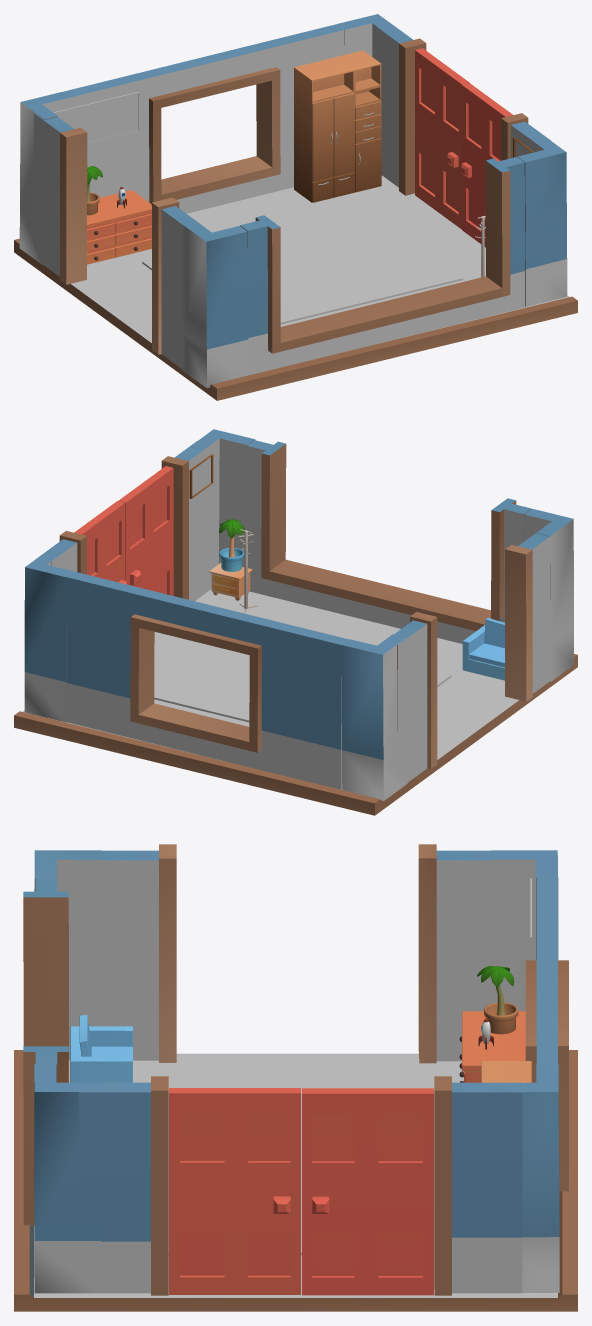
The model's file is ENTRADA.fbx.
The picture shows the model from 3 angles, top to bottom: view 1: azimuth 30°, elevation 25°; view 2: azimuth 150°, elevation 25°; view 3: azimuth 270°, elevation 25°; orthographic projection. The views are drawn at different scales.
Parts seen in each view (by area): view 1: suelo8, paret_ventana8, paret_con_ventana_grande23, fombra10, armario3, paret_esquina_72, paret_con_borde16, puerta_dob_4, paret_esquina32, paret_doblepuerta3, paret_con_borde15, puerta_dob__3 (+4 smaller); view 2: paret_ventana8, suelo8, paret_con_ventana_grande23, paret_esquina_86, paret_con_borde15, paret_esquina33, paret_doblepuerta3, paret_con_borde16, fombra10, puerta_dob__3, paret_esquina_72, paret_esquina32 (+5 smaller); view 3: paret_doblepuerta3, puerta_dob_4, puerta_dob__3, suelo8, paret_con_borde15, paret_con_borde16, paret_esquina32, paret_con_ventana_grande23, paret_esquina33, paret_ventana8, paret_esquina_86, sillon3 (+4 smaller).
Part boxes in pixels (<box>): suelo8: <box>14,175,577,400</box>; paret_ventana8: <box>62,23,346,213</box>; paret_con_ventana_grande23: <box>240,157,525,375</box>; fombra10: <box>142,207,463,324</box>; armario3: <box>294,50,381,202</box>; paret_esquina_72: <box>182,221,248,387</box>; paret_con_borde16: <box>34,113,87,284</box>; puerta_dob_4: <box>415,48,469,229</box>; paret_esquina32: <box>517,134,567,306</box>; paret_doblepuerta3: <box>377,27,550,195</box>; paret_con_borde15: <box>151,197,200,368</box>; puerta_dob__3: <box>461,83,513,247</box>; paret_ventana8: <box>64,571,348,789</box>; suelo8: <box>14,589,577,815</box>; paret_con_ventana_grande23: <box>246,440,531,643</box>; paret_esquina_86: <box>341,634,407,800</box>; paret_con_borde15: <box>505,528,550,701</box>; paret_esquina33: <box>24,550,71,722</box>; paret_doblepuerta3: <box>49,441,211,601</box>; paret_con_borde16: <box>394,612,437,782</box>; fombra10: <box>154,642,451,722</box>; puerta_dob__3: <box>118,466,173,595</box>; paret_esquina_72: <box>524,509,573,682</box>; paret_esquina32: <box>190,429,255,568</box>; paret_doblepuerta3: <box>79,1076,522,1295</box>; puerta_dob_4: <box>302,1088,433,1295</box>; puerta_dob__3: <box>169,1088,300,1294</box>; suelo8: <box>14,1050,577,1311</box>; paret_con_borde15: <box>77,844,176,1062</box>; paret_con_borde16: <box>418,844,517,1063</box>; paret_esquina32: <box>34,1064,100,1293</box>; paret_con_ventana_grande23: <box>23,878,68,1225</box>; paret_esquina33: <box>492,1064,559,1292</box>; paret_ventana8: <box>525,878,568,1191</box>; paret_esquina_86: <box>491,850,558,1011</box>; sillon3: <box>70,1015,132,1082</box>.
Bounding box in the file's own units: 883 × 363 × 841.
